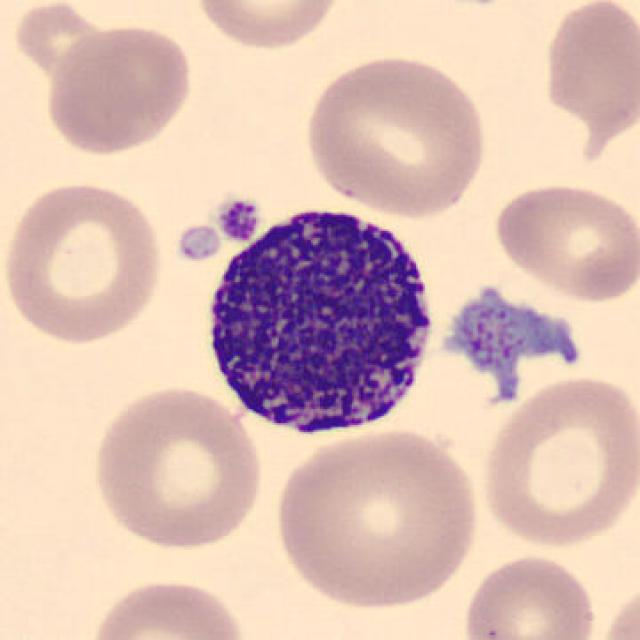Basophil: (194, 188, 446, 450)
Platelets: (437, 280, 594, 411), (213, 192, 263, 245), (172, 224, 224, 264), (437, 0, 514, 11)
RBC: (268, 423, 486, 614), (298, 51, 491, 221), (85, 381, 268, 554), (474, 370, 640, 551), (0, 176, 167, 348), (39, 19, 197, 159), (491, 178, 638, 303), (537, 0, 638, 138), (459, 550, 601, 640), (82, 573, 252, 640), (186, 0, 348, 53), (592, 578, 640, 640)
